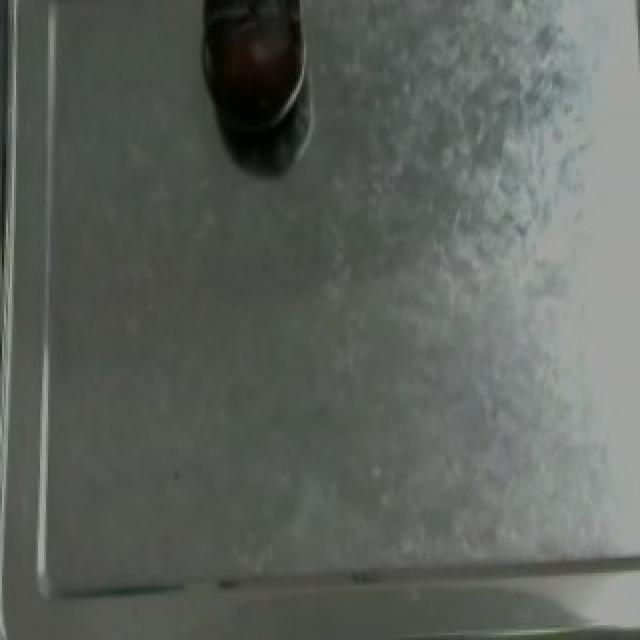Fruit: (198, 0, 306, 136)
